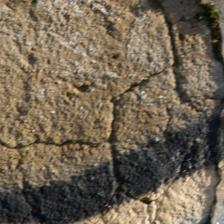Crack: (15, 21, 100, 132), (0, 0, 37, 213), (51, 47, 103, 159), (85, 14, 139, 78)
